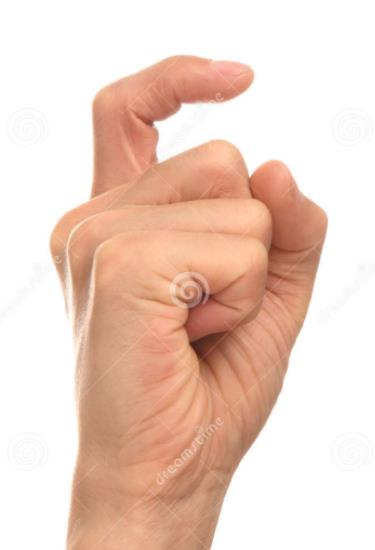anticlockwise: (53, 53, 333, 484)
